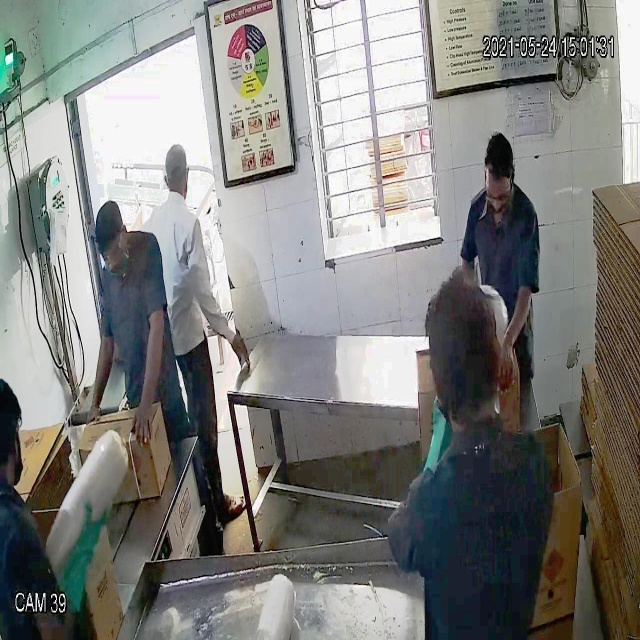Gafas: (482, 181, 517, 213)
